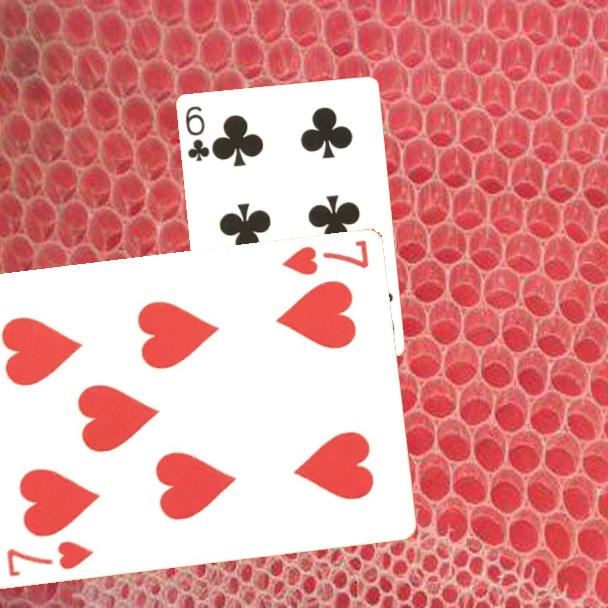c06: (182, 103, 212, 164)
h07: (2, 538, 96, 580), (278, 237, 372, 279)
